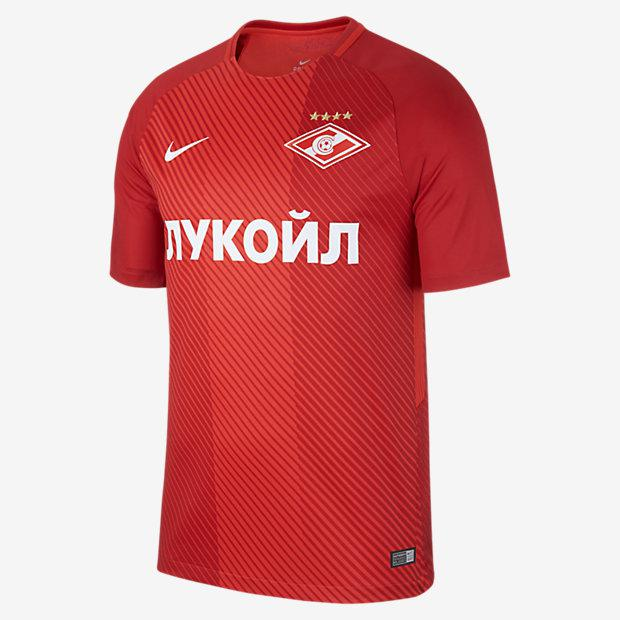teeshirt: (83, 8, 537, 620)
